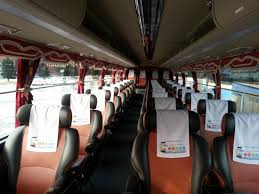seat: (12, 110, 78, 191)
